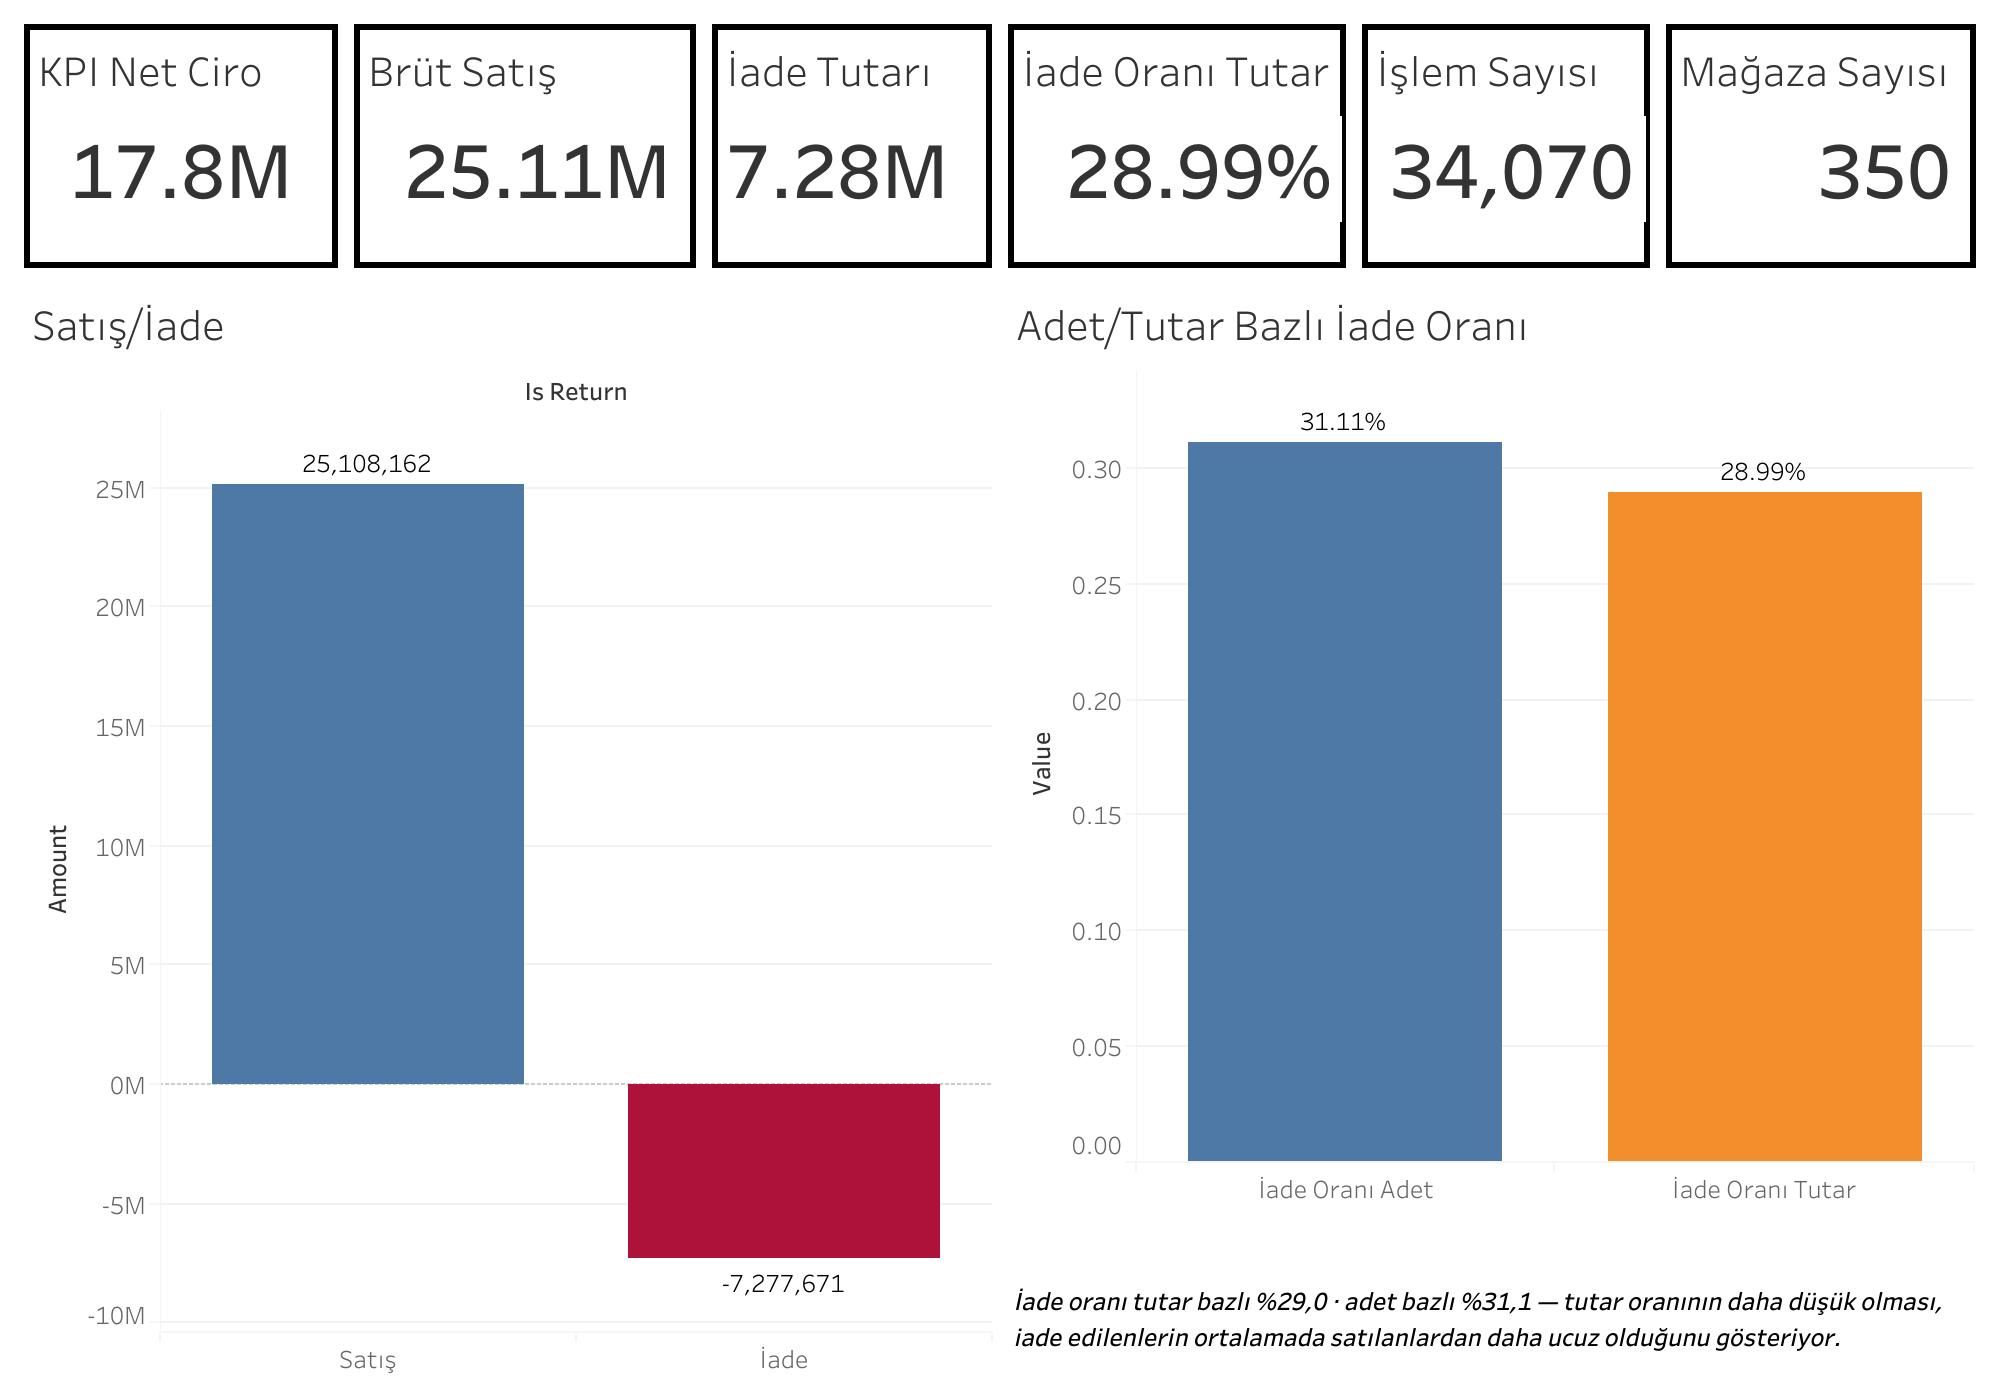

This screenshot's page, from the dashboard's own definition file:
{"tool":"tableau","page":{"name":"Dashboard 1","canvas":[1000,700],"ordinal":0},"visuals":[{"type":"worksheet","title":"KPI Net Ciro","mark":"Text","box":[8,8,165,130]},{"type":"worksheet","title":"Brüt Satış","mark":"Text","box":[173,8,179,130]},{"type":"worksheet","title":"İade Tutarı","mark":"Text","box":[352,8,148,130]},{"type":"worksheet","title":"İade Oranı Tutar","mark":"Text","box":[500,8,177,130]},{"type":"worksheet","title":"İşlem Sayısı","mark":"Text","box":[677,8,152,130]},{"type":"worksheet","title":"Mağaza Sayısı","mark":"Text","box":[829,8,163,130]},{"type":"worksheet","title":"Satış/İade","mark":"Automatic","rows":["amount"],"cols":["is_return"],"box":[8,138,492,554]},{"type":"worksheet","title":"Adet/Tutar Bazlı İade Oranı","mark":"Automatic","box":[500,138,492,487]},{"type":"text","box":[500,625,492,67]}]}

Visuals, with their boxes in screenshot pixels (x1, y1, x2, y2), scaled from the page's 1000x700 canvas onto the 1998x1398 screenshot:
"KPI Net Ciro" worksheet (Text marks): locate(16, 16, 346, 276)
"Brüt Satış" worksheet (Text marks): locate(346, 16, 703, 276)
"İade Tutarı" worksheet (Text marks): locate(703, 16, 999, 276)
"İade Oranı Tutar" worksheet (Text marks): locate(999, 16, 1353, 276)
"İşlem Sayısı" worksheet (Text marks): locate(1353, 16, 1656, 276)
"Mağaza Sayısı" worksheet (Text marks): locate(1656, 16, 1982, 276)
"Satış/İade" worksheet: locate(16, 276, 999, 1382)
"Adet/Tutar Bazlı İade Oranı" worksheet: locate(999, 276, 1982, 1248)
text: locate(999, 1248, 1982, 1382)
